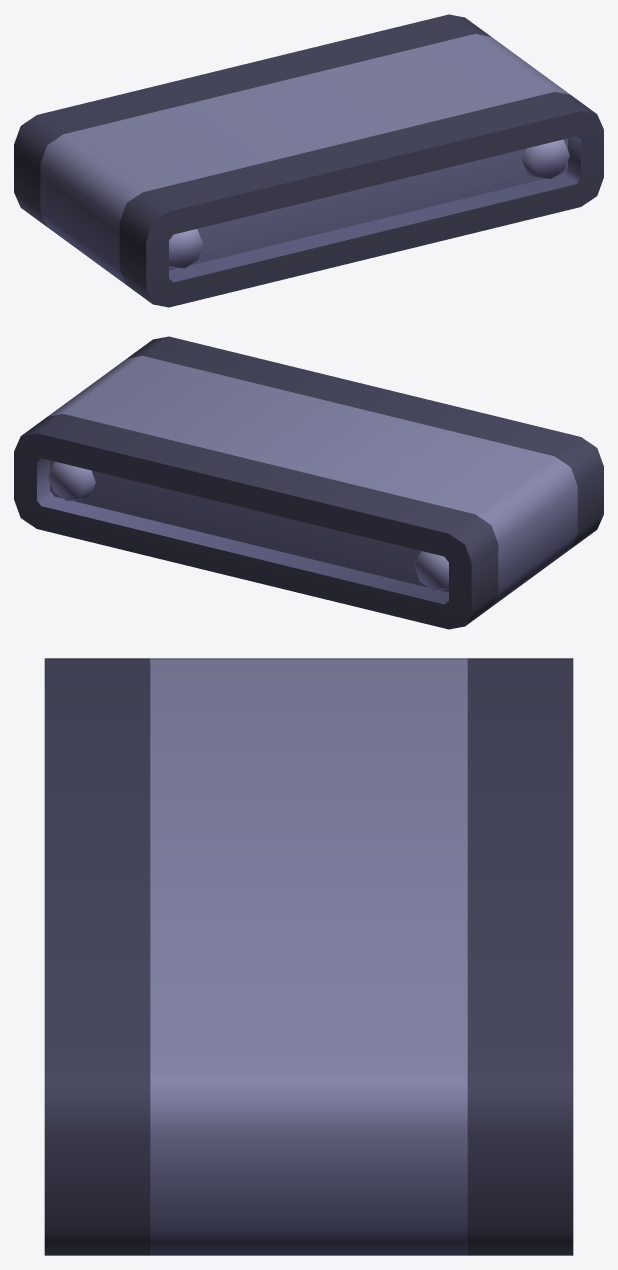
File: kenney-factory-conveyor-long-stripe.glb
The picture shows the model from 3 angles, top to bottom: view 1: azimuth 30°, elevation 25°; view 2: azimuth 150°, elevation 25°; view 3: azimuth 270°, elevation 25°; orthographic projection. The views are drawn at different scales.
Visible parts, largest first — view 1: conveyor-long-stripe; view 2: conveyor-long-stripe; view 3: conveyor-long-stripe.
Part boxes in pixels (x1=…): conveyor-long-stripe: x1=14, y1=14, x2=603, y2=307; conveyor-long-stripe: x1=14, y1=336, x2=603, y2=629; conveyor-long-stripe: x1=44, y1=658, x2=573, y2=1255.
Bounding box in the file's own units: 2 × 0.3999 × 1.
Materials: 1 (1 with a texture image).
